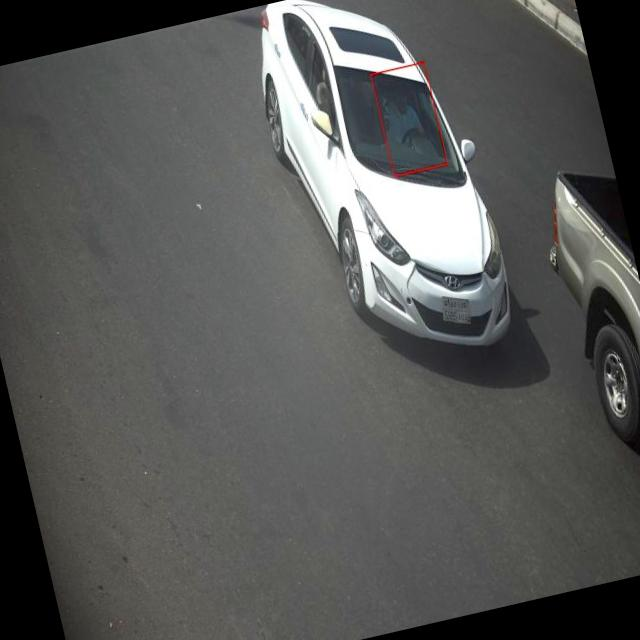person_without_seatbelt: (367, 67, 448, 164)
